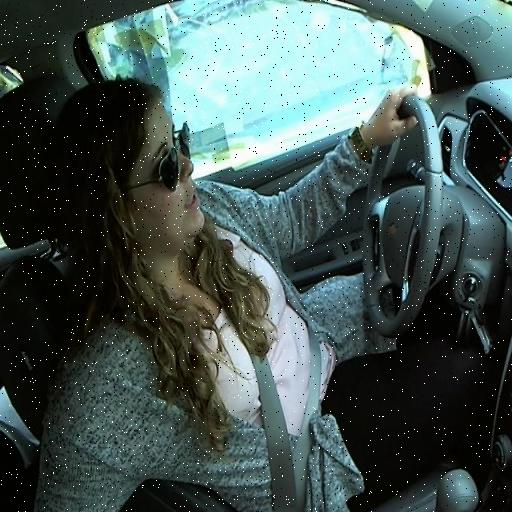turning: (54, 81, 472, 436)
